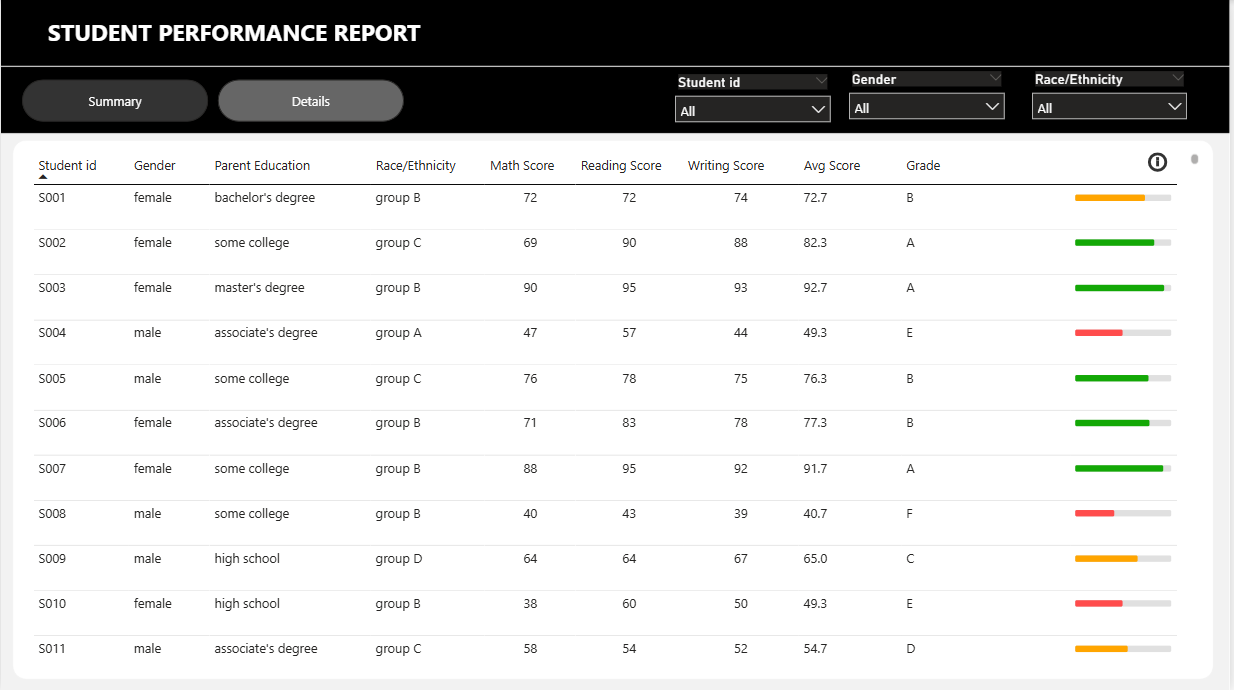

This screenshot's page, from the dashboard's own definition file:
{"tool":"powerbi","page":{"name":"Details","canvas":[1280,720],"ordinal":1},"visuals":[{"type":"textbox","box":[43.3,11.7,450,143.3],"z":0},{"type":"pageNavigator","box":[22.3,83,399,44.6],"z":1000},{"type":"slicer","fields":{"Values":["StudentsPerformance.Race/Ethnicity"]},"box":[1064.8,69.3,181.1,64.6],"z":2000},{"type":"slicer","fields":{"Values":["StudentsPerformance.Gender"]},"box":[873.3,68,181.7,65],"z":3000},{"type":"slicer","fields":{"Values":["StudentsPerformance.Student id"]},"box":[691.7,71.7,181.7,65],"z":4000},{"type":"tableEx","title":"Top 5 Students","fields":{"Values":["StudentsPerformance.Student id","StudentsPerformance.Gender","StudentsPerformance.Parent Education","StudentsPerformance.Race/Ethnicity","StudentsPerformance.Math Score","StudentsPerformance.Reading Score","StudentsPerformance.Writing Score","Measure.Average Score","StudentsPerformance.Grade","Measure.Student Score Bar Chart"]},"box":[28.3,155,1225,545],"z":4001},{"type":"actionButton","box":[1191.7,155,36.7,28.3],"z":4003}]}

Visuals, with their boxes in screenshot pixels (x1, y1, x2, y2), scaled from the page's 1280x720 canvas onto the 1234x690 screenshot:
textbox: detection(42, 11, 476, 149)
pageNavigator: detection(21, 80, 406, 122)
slicer - StudentsPerformance.Race/Ethnicity: detection(1027, 66, 1201, 128)
slicer - StudentsPerformance.Gender: detection(842, 65, 1017, 127)
slicer - StudentsPerformance.Student id: detection(667, 69, 842, 131)
"Top 5 Students" tableEx: detection(27, 149, 1208, 671)
actionButton: detection(1149, 149, 1184, 176)
